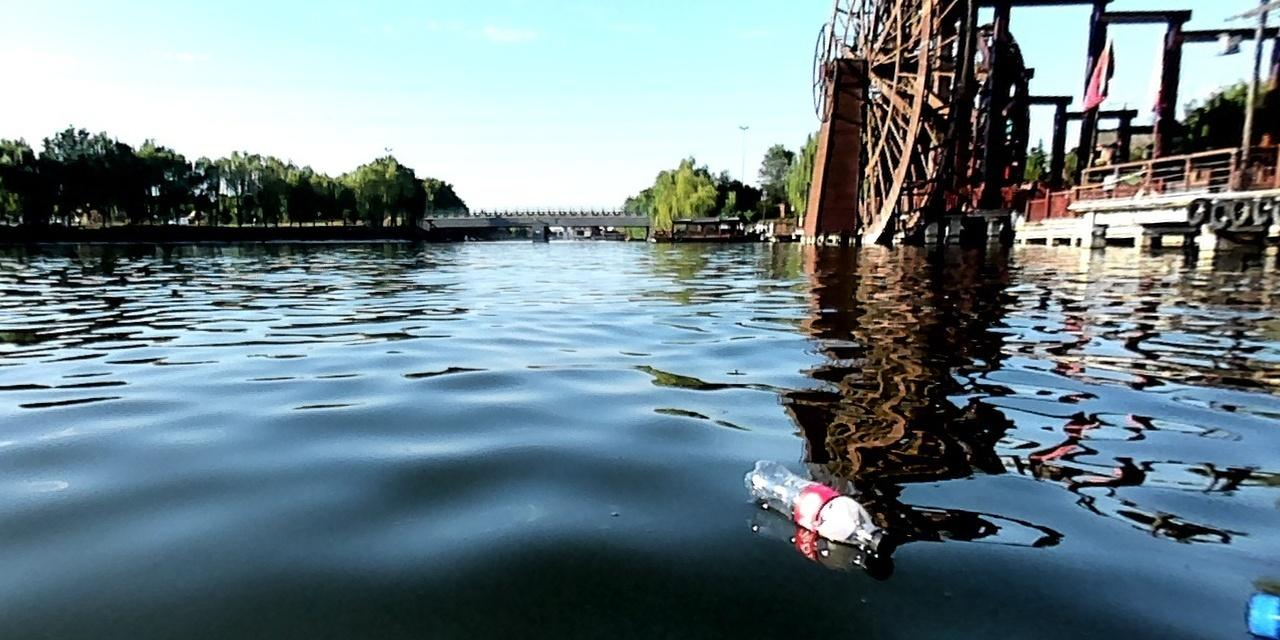bottle: (740, 456, 892, 558)
